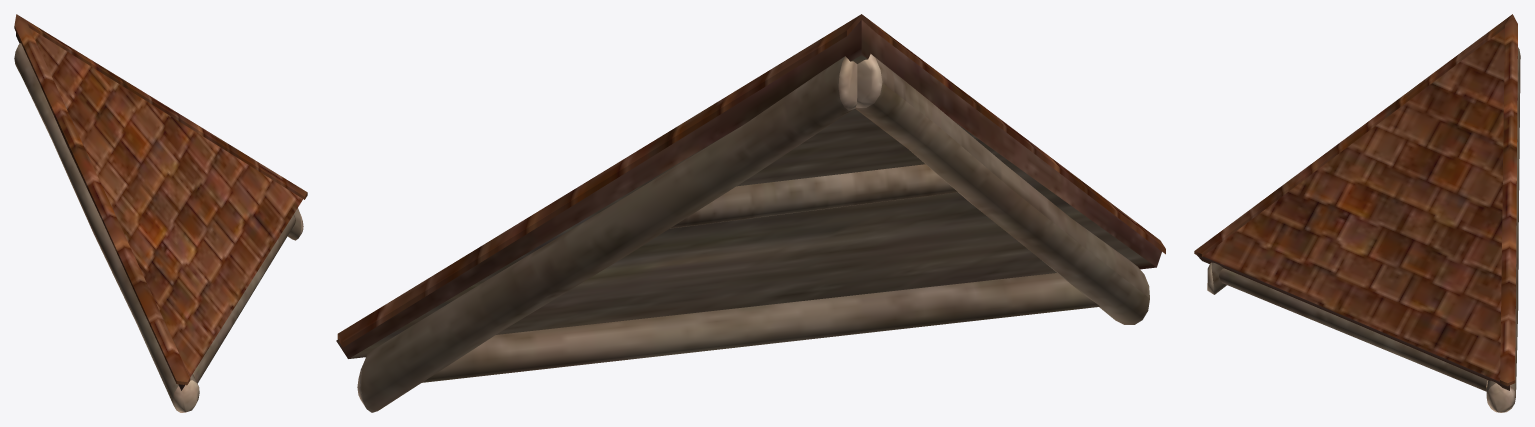
The model's file is SM_SlopedRoofCorner_Wood_525633.glb.
3 views of the same model, side by side, from view 1: azimuth 30°, elevation 25°; view 2: azimuth 150°, elevation 25°; view 3: azimuth 270°, elevation 25° (orthographic). The views are drawn at different scales.
Size of the model in its own units: 4.09 by 3.8 by 4.1.
Materials: 1 (1 with a texture image).
